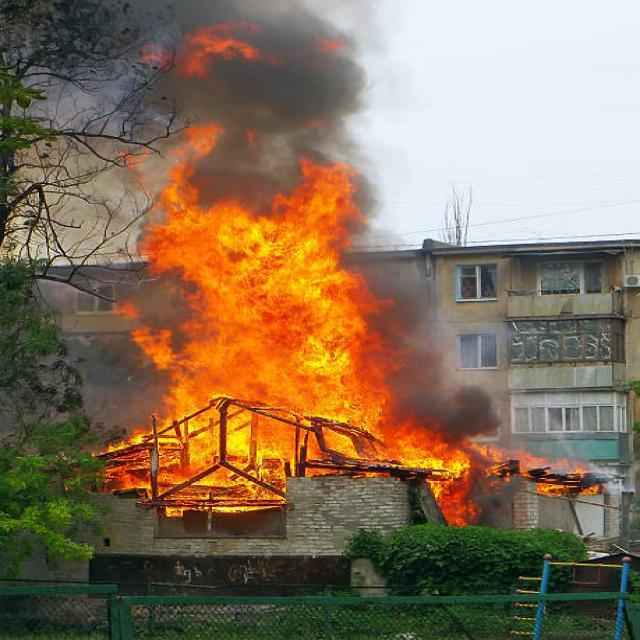Fire: (136, 200, 440, 492), (436, 458, 484, 508)
Smoke: (140, 6, 402, 227)
